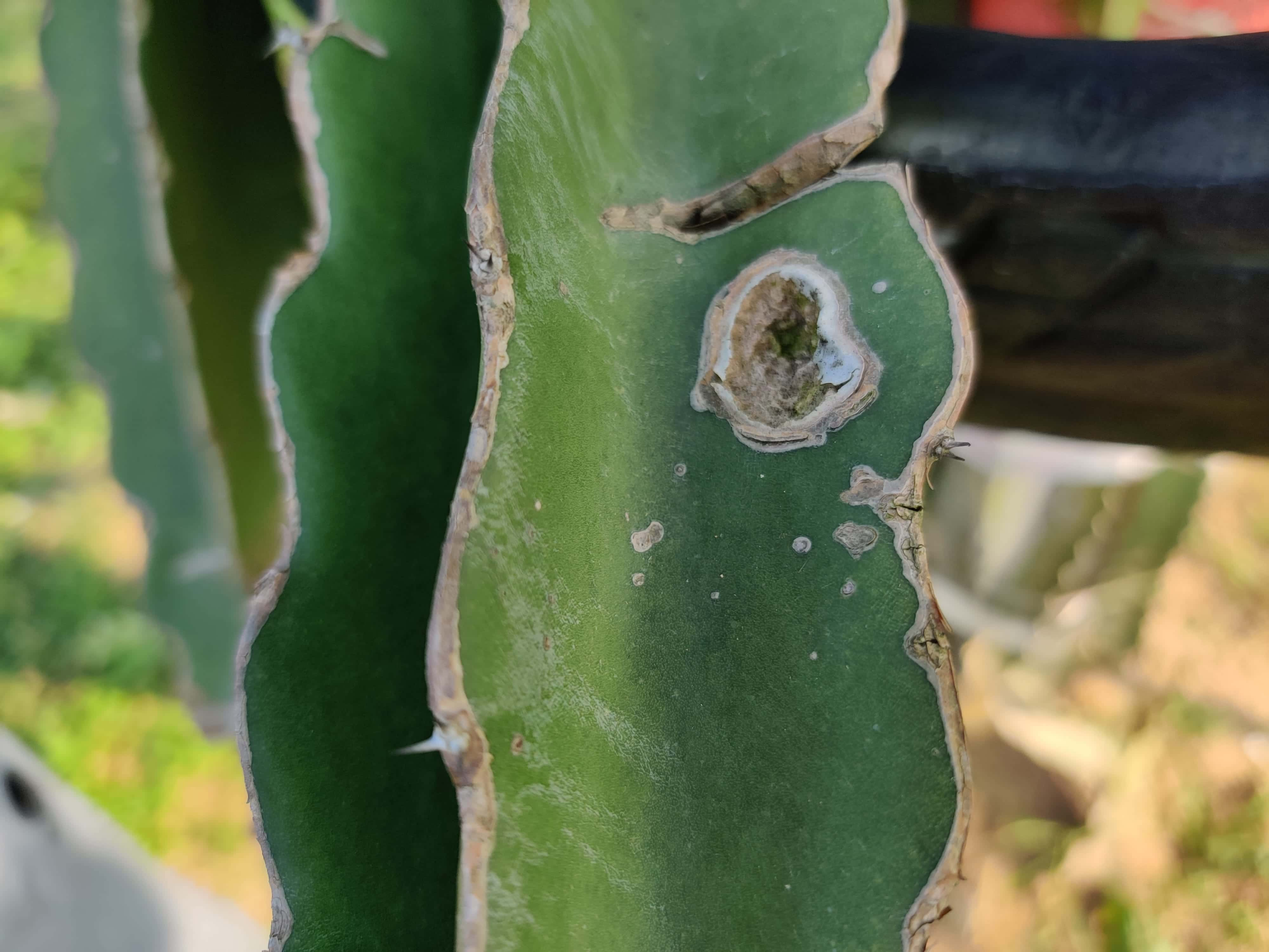stemcanker: (694, 252, 882, 450)
